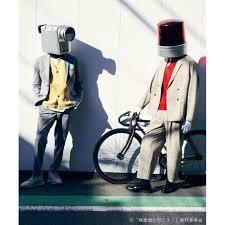no more kid: (29, 15, 85, 61)
